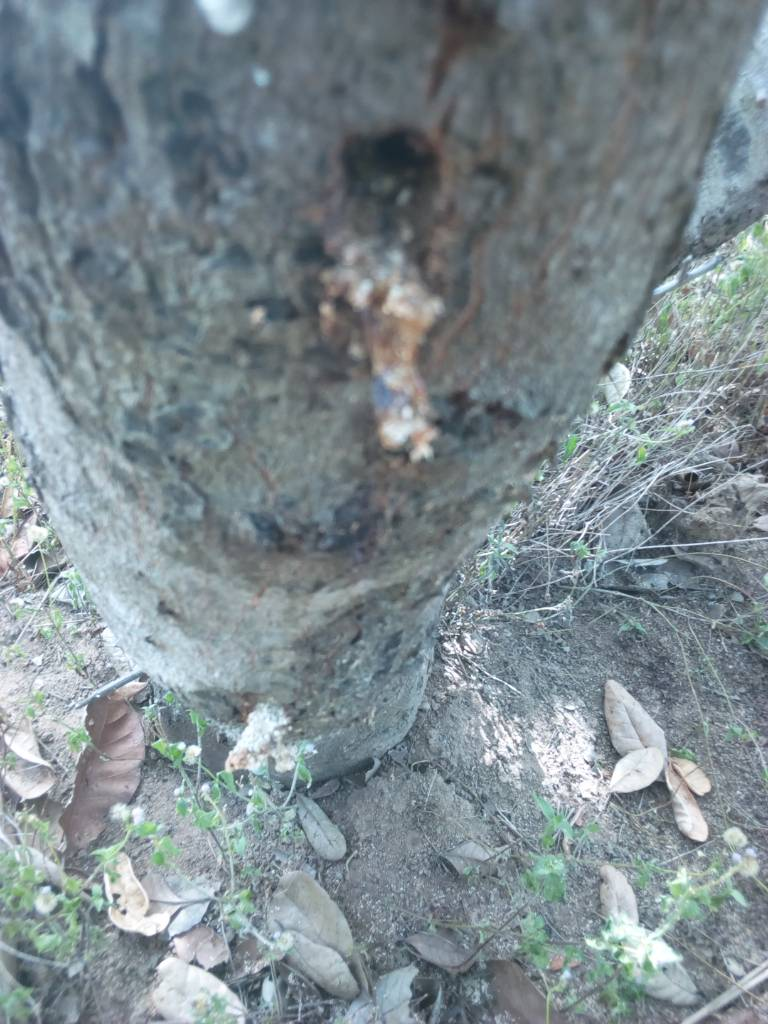Apate terebrans: (313, 110, 497, 286)
